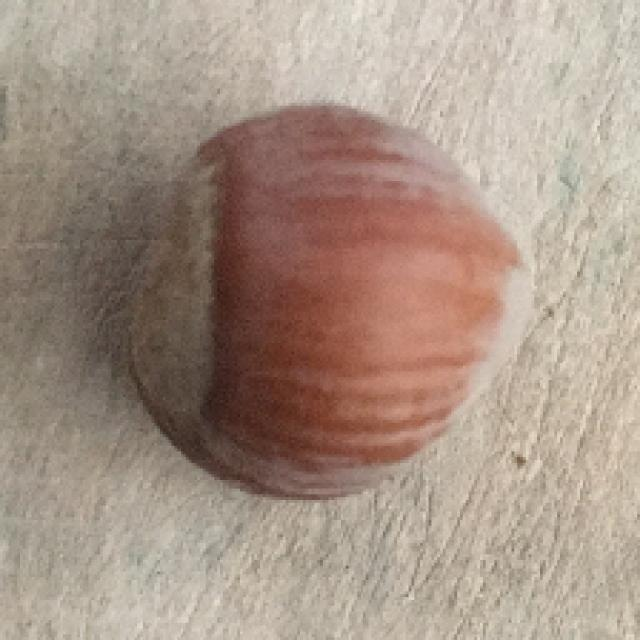QualityHazelnut: (119, 107, 534, 507)
